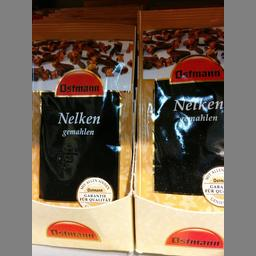spices: (31, 18, 136, 206), (137, 6, 222, 209)
